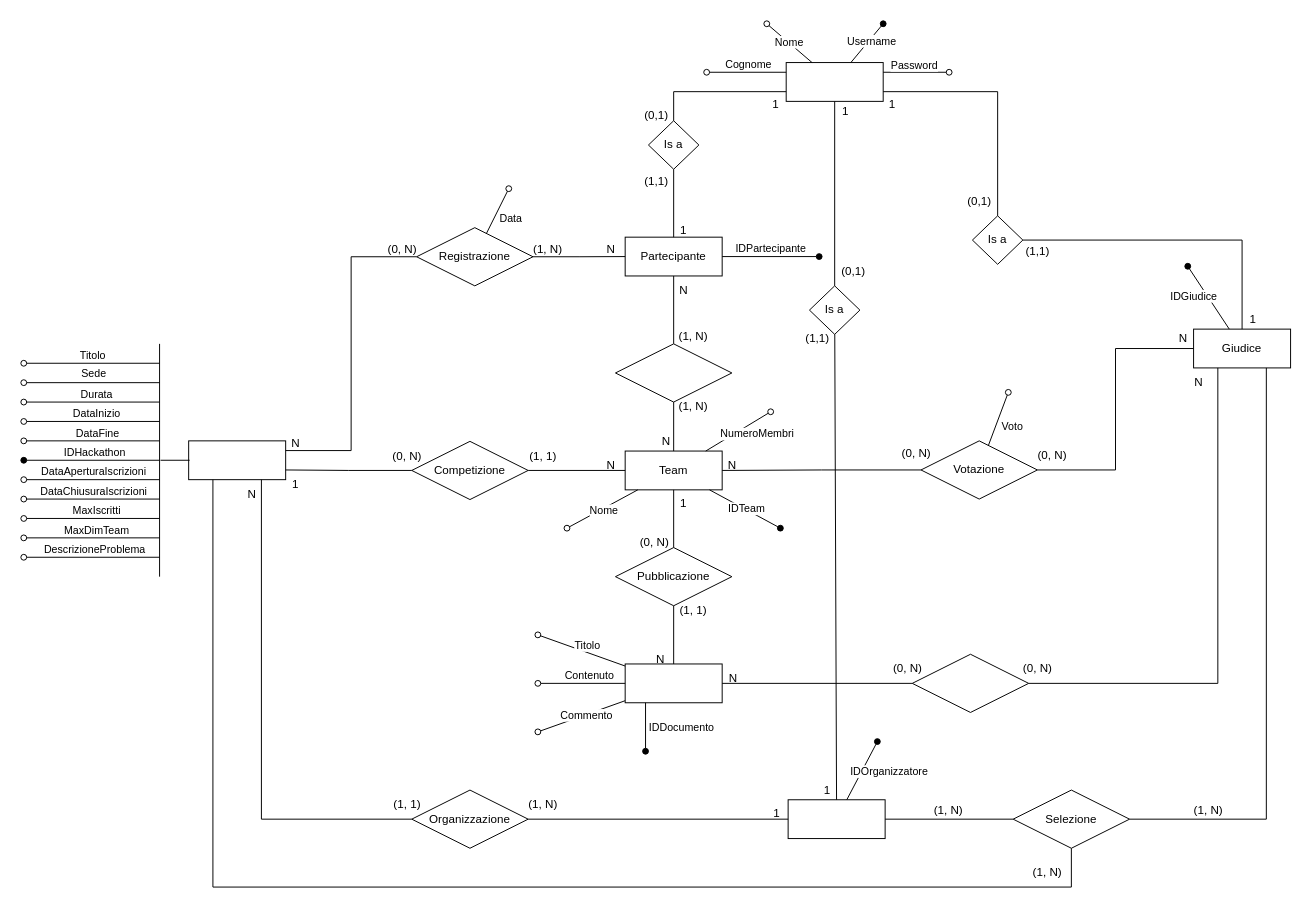
The diagram is 1308 pixels wide and 905 high, and some of its shapes have lost their labels. The centre of each missing label's shape, as x and y in pixels:
Documento: the point at 673,683
Esaminazione: the point at 970,682
Hackathon: the point at 237,460
Organizzatore: the point at 836,819
Partecipazione: the point at 673,372
Utente: the point at 834,81
